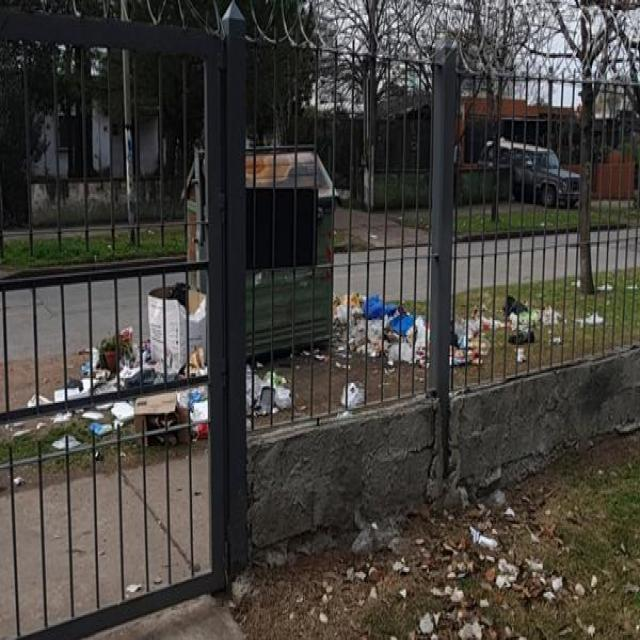garbage: (88, 262, 236, 439), (422, 508, 607, 638), (330, 290, 548, 367), (65, 332, 144, 476), (238, 359, 372, 416), (22, 393, 84, 463), (556, 300, 621, 350)
